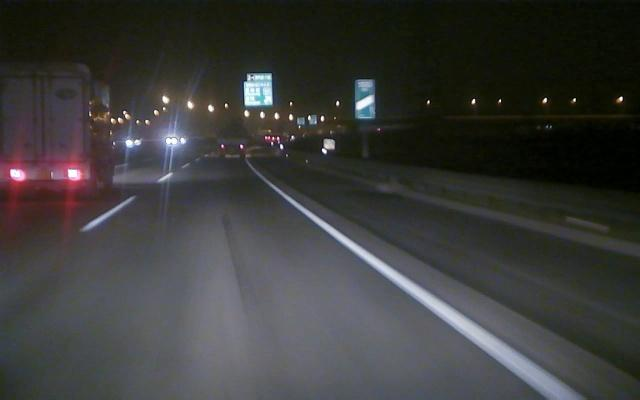lane: (267, 182, 586, 398), (81, 172, 173, 232)
